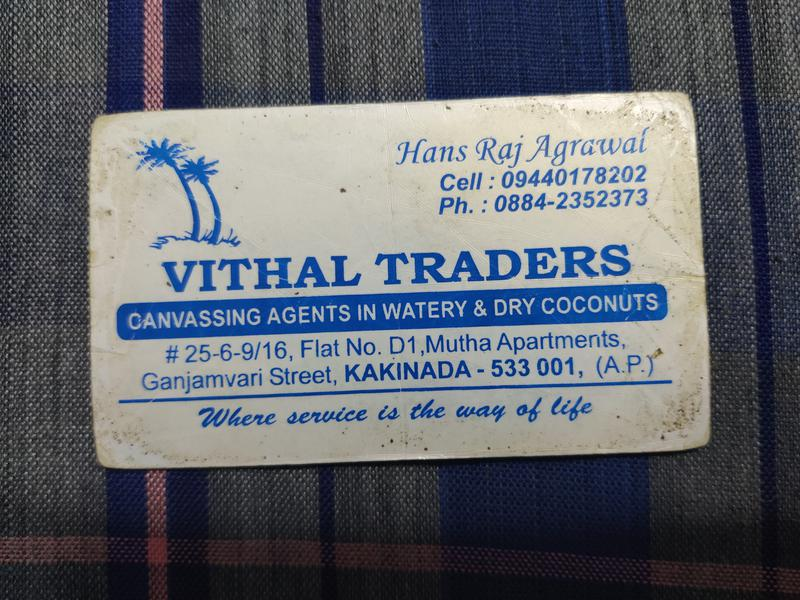card: (87, 89, 711, 470)
